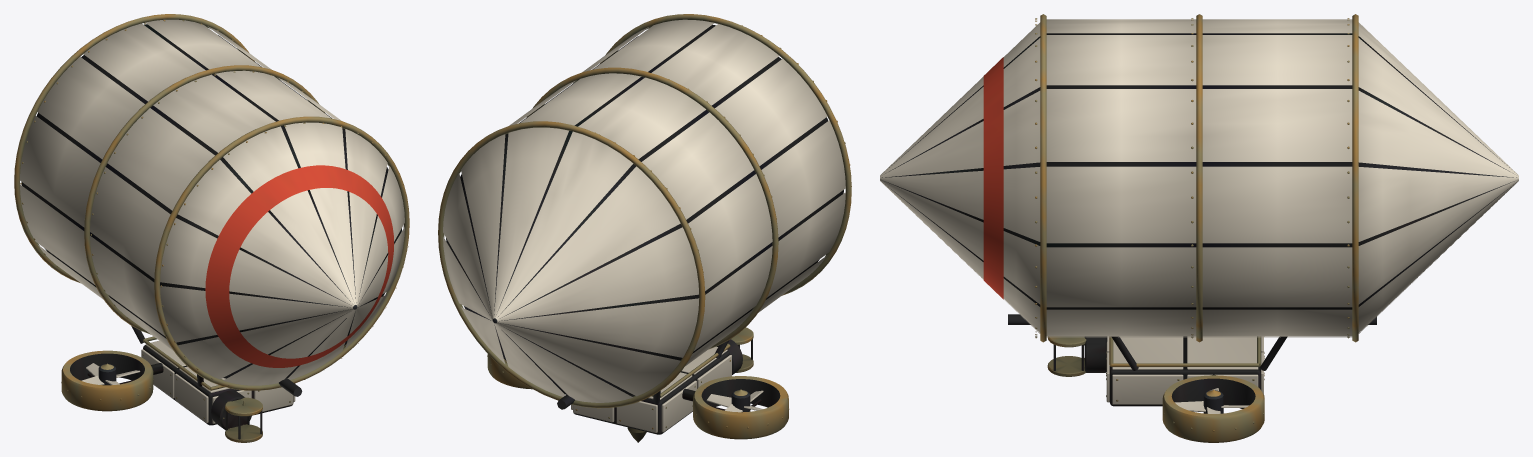
Rendered from sonde.glb.
The picture shows the model from 3 angles, left to right: view 1: azimuth 30°, elevation 25°; view 2: azimuth 150°, elevation 25°; view 3: azimuth 270°, elevation 25°; orthographic projection. The views are drawn at different scales.
Parts seen in each view (by area): view 1: sonde-hull, rotorL; view 2: sonde-hull, rotorL; view 3: sonde-hull, rotorR.
Part boxes in pixels (<box>): sonde-hull: <box>14,14,409,442</box>; rotorL: <box>81,363,140,385</box>; sonde-hull: <box>438,14,851,442</box>; rotorL: <box>706,389,763,412</box>; sonde-hull: <box>880,14,1518,442</box>; rotorR: <box>1175,388,1248,413</box>.
Size of what is drawn, in the model's own units: 2.51 by 3.04 by 4.5.
1 material, 1 textured.
